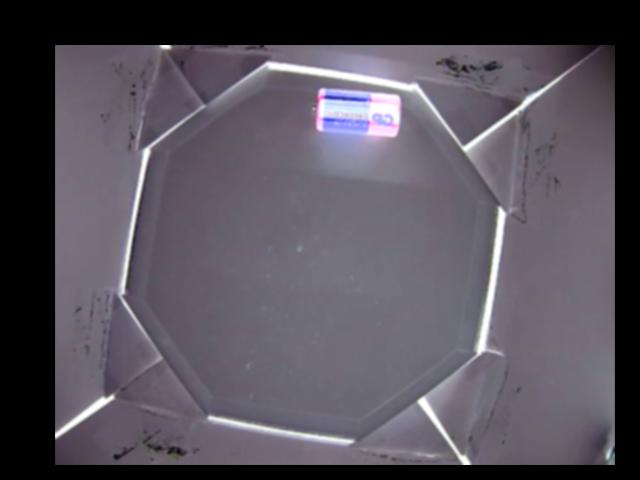Battery: (311, 87, 404, 137)
